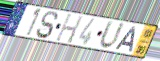1: (25, 7, 43, 38)
4: (77, 17, 97, 47)
A: (114, 26, 137, 53)
H: (54, 13, 84, 45)
S: (35, 10, 60, 40)
U: (98, 19, 126, 51)
